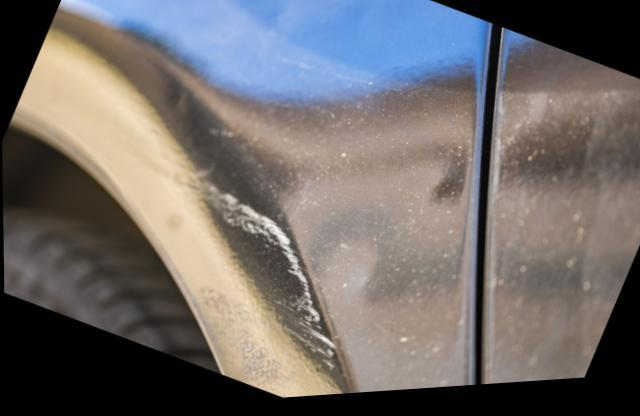scratch: (159, 161, 345, 392)
